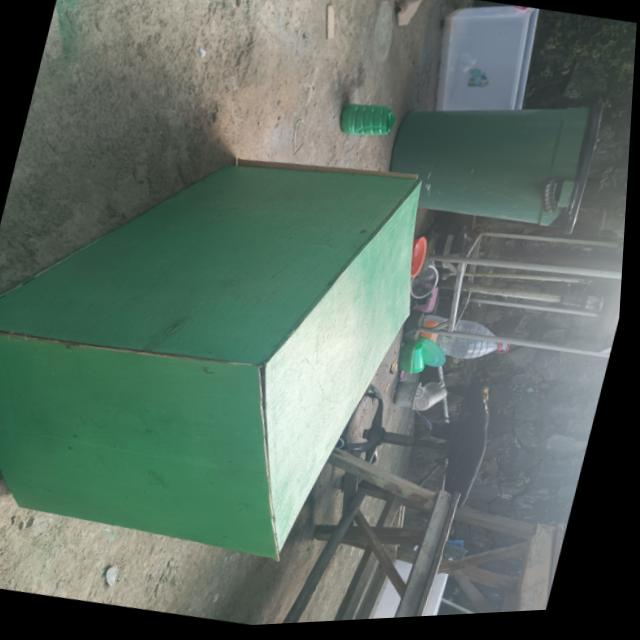green_box: (0, 85, 479, 600)
